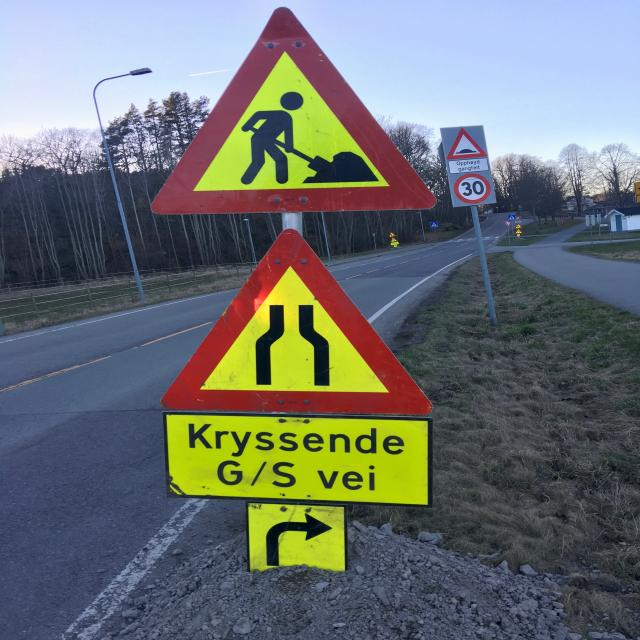Pedestrian crosswalk: (508, 214, 516, 220), (430, 222, 438, 228)
